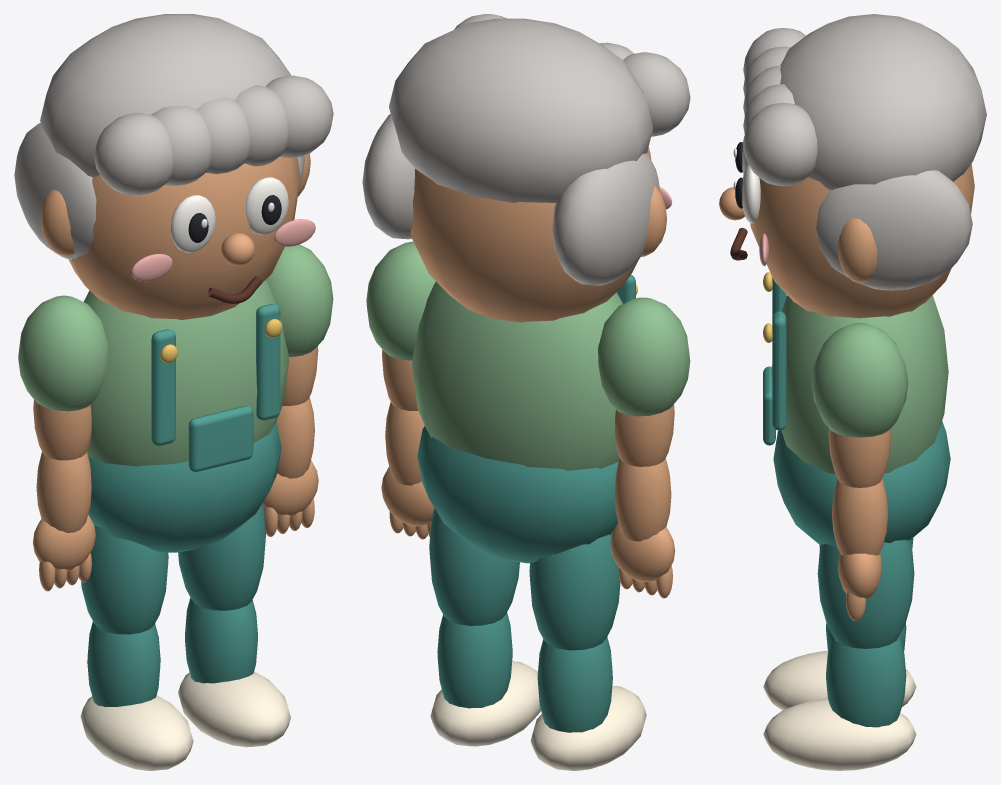
Rendered from word-grandpa.glb.
3 renders of one model, left to right at view 1: azimuth 30°, elevation 25°; view 2: azimuth 150°, elevation 25°; view 3: azimuth 270°, elevation 25°, orthographic. The views are drawn at different scales.
Parts seen in each view (by area): view 1: hair cap, clay head, soft shirt, overalls, shirt sleeve, trouser leg, little shoe, little shoe.001, bob hair, trouser leg.001, fringe, shirt sleeve.001 (+22 smaller); view 2: hair cap, soft shirt, clay head, overalls, bob hair, shirt sleeve, trouser leg, trouser leg.001, lower leg, lower leg.001, shirt sleeve.001, little shoe (+10 smaller); view 3: hair cap, soft shirt, bob hair.001, clay head, shirt sleeve.001, overalls, little shoe.001, trouser leg.001, lower leg.001, fringe.004, forearm.001, little shoe (+11 smaller).
Part boxes in pixels (left/top/right/bottom): hair cap: left=40, top=14, right=291, bottom=177; clay head: left=69, top=157, right=300, bottom=319; soft shirt: left=84, top=280, right=288, bottom=466; overalls: left=88, top=422, right=281, bottom=552; shirt sleeve: left=18, top=295, right=107, bottom=411; trouser leg: left=81, top=525, right=168, bottom=634; little shoe: left=80, top=695, right=193, bottom=770; little shoe.001: left=178, top=671, right=290, bottom=747; bob hair: left=14, top=123, right=96, bottom=259; trouser leg.001: left=178, top=503, right=265, bottom=610; fringe: left=94, top=113, right=173, bottom=195; shirt sleeve.001: left=266, top=244, right=333, bottom=356; hair cap: left=389, top=18, right=653, bottom=202; soft shirt: left=411, top=281, right=622, bottom=470; clay head: left=410, top=147, right=651, bottom=322; overalls: left=417, top=426, right=618, bottom=563; bob hair: left=552, top=153, right=660, bottom=285; shirt sleeve: left=598, top=297, right=690, bottom=416; trouser leg: left=529, top=530, right=620, bottom=650; trouser leg.001: left=429, top=508, right=519, bottom=625; lower leg: left=537, top=637, right=612, bottom=732; lower leg.001: left=437, top=612, right=512, bottom=708; shirt sleeve.001: left=366, top=241, right=435, bottom=360; little shoe: left=530, top=685, right=646, bottom=770; hair cap: left=780, top=14, right=986, bottom=189; soft shirt: left=771, top=295, right=948, bottom=473; bob hair.001: left=816, top=170, right=972, bottom=290; clay head: left=748, top=163, right=974, bottom=318; shirt sleeve.001: left=811, top=323, right=908, bottom=437; overalls: left=773, top=421, right=950, bottom=546; little shoe.001: left=763, top=698, right=916, bottom=770; trouser leg.001: left=817, top=540, right=914, bottom=648; lower leg.001: left=826, top=636, right=906, bottom=727; fringe.004: left=743, top=102, right=817, bottom=186; forearm.001: left=832, top=479, right=888, bottom=555; little shoe: left=763, top=651, right=916, bottom=710.
Bounding box in the file's own units: 0.957 × 2.14 × 0.7315.
